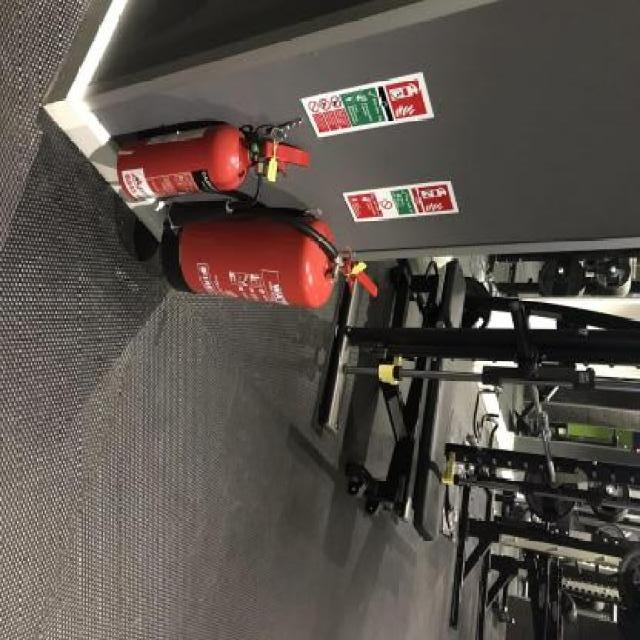fire extinguisher: (160, 208, 375, 308), (116, 122, 310, 229)
